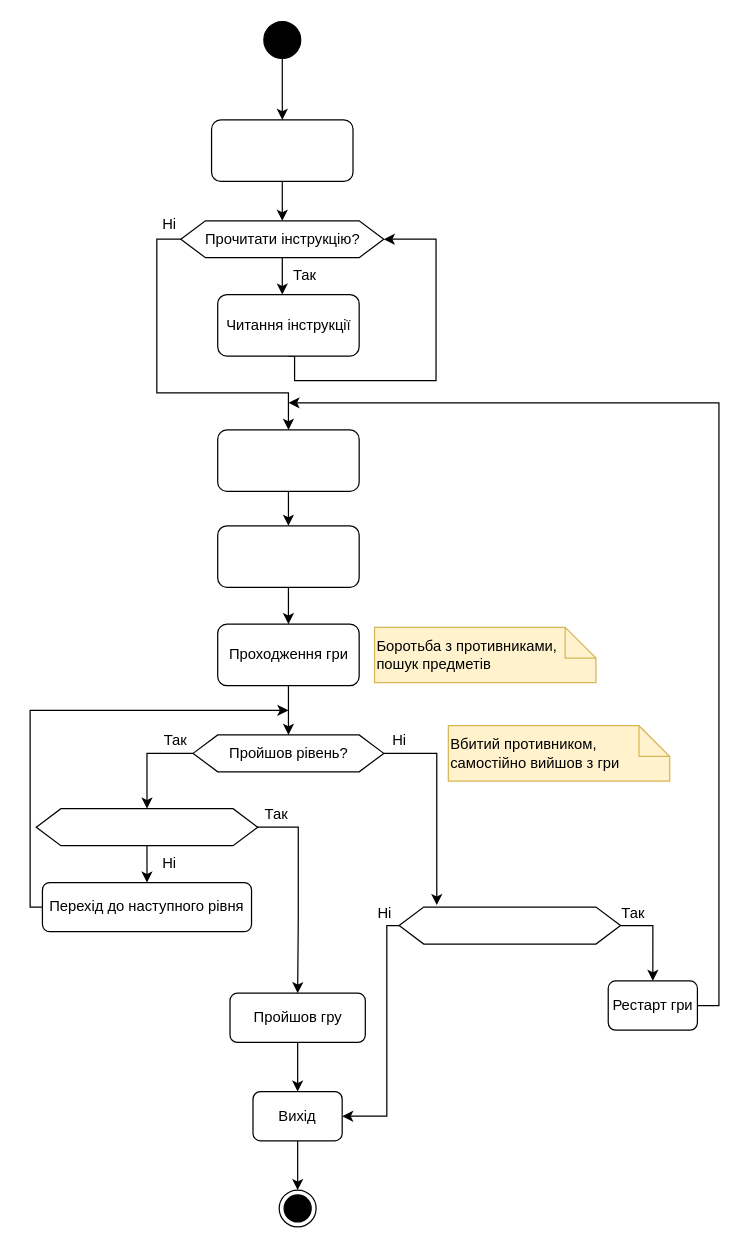
Image size: 750x1248. Some labels were removed from this diagram. The centre of each missing label's shape, as x and y in pixels:
Запуск гри: the point at 281,150
Останній рівень?: the point at 146,826
Почати гру: the point at 287,460
Почати нову гру?: the point at 509,925
Спавн героя: the point at 287,556
